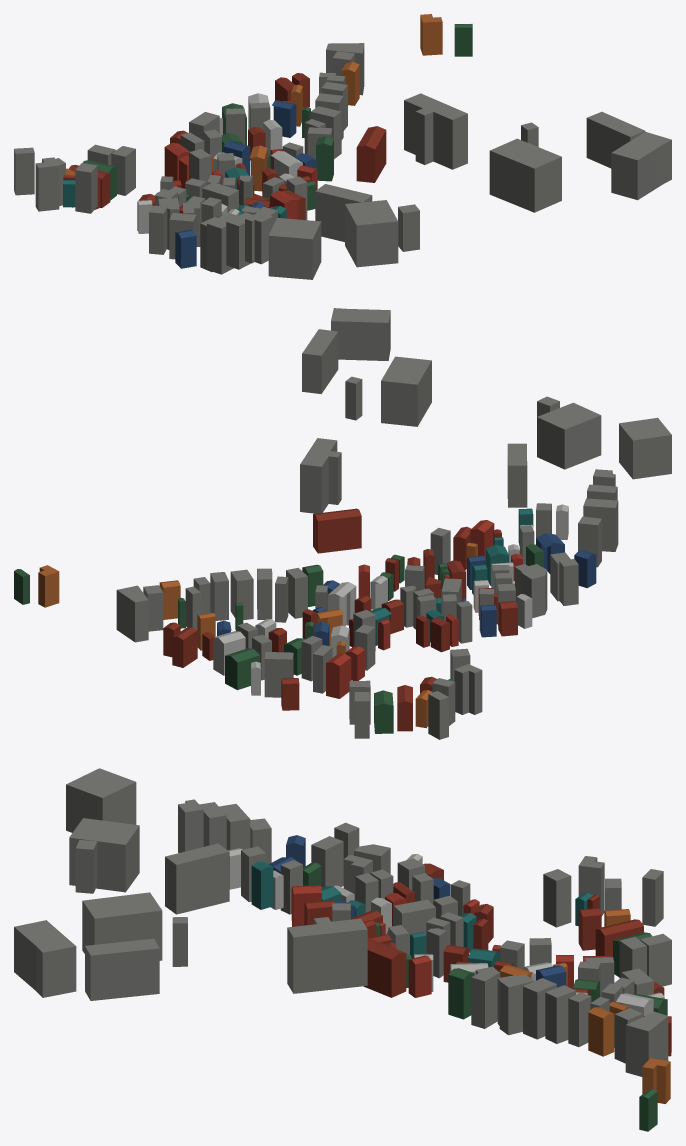
The model's file is near-17-109446-59475.671c2a8b.glb.
3 renders of one model, top to bottom at view 1: azimuth 30°, elevation 25°; view 2: azimuth 150°, elevation 25°; view 3: azimuth 270°, elevation 25°, orthographic. The views are drawn at different scales.
Size of the model in its own units: 285 by 102 by 310.
